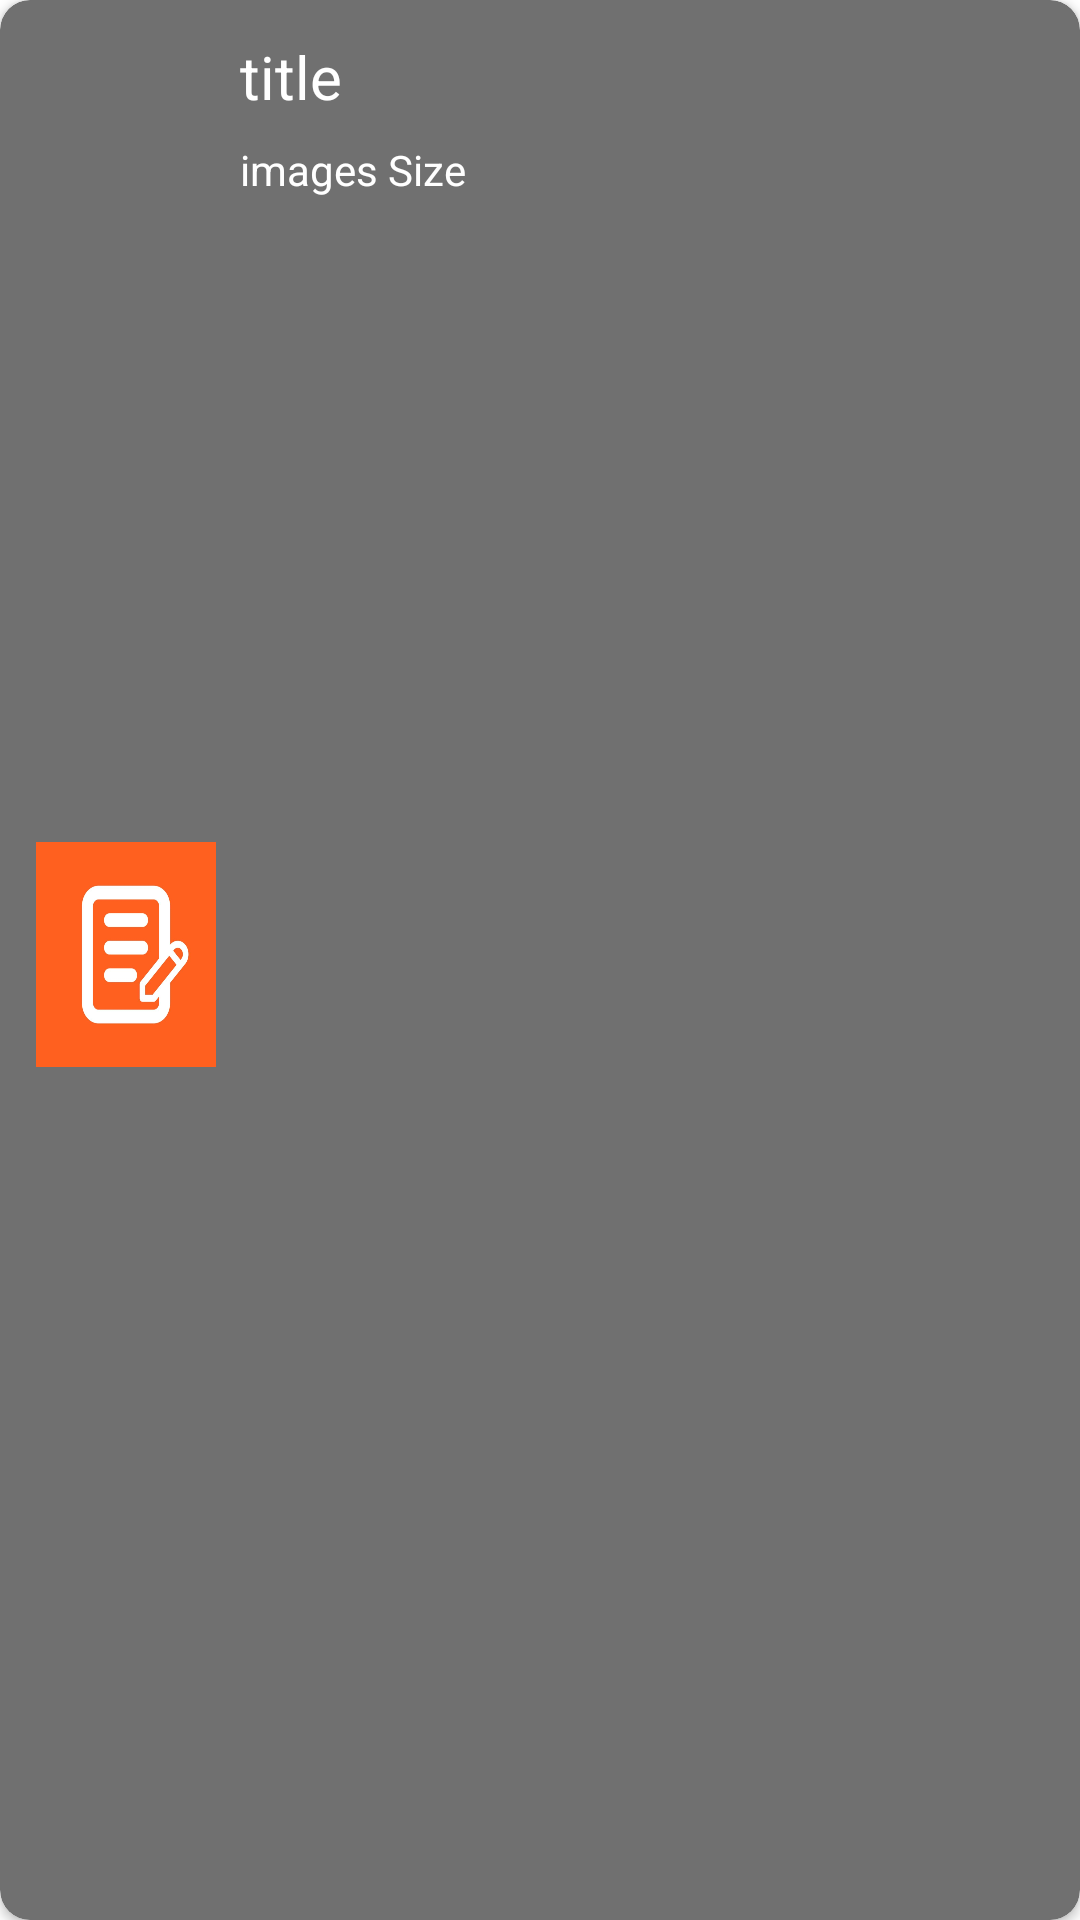

Named icons in this screenshot (1080 x 1920) and their bounding boxes, (x1, y1, x2, y2):
notesapp: (36, 842, 216, 1067)
